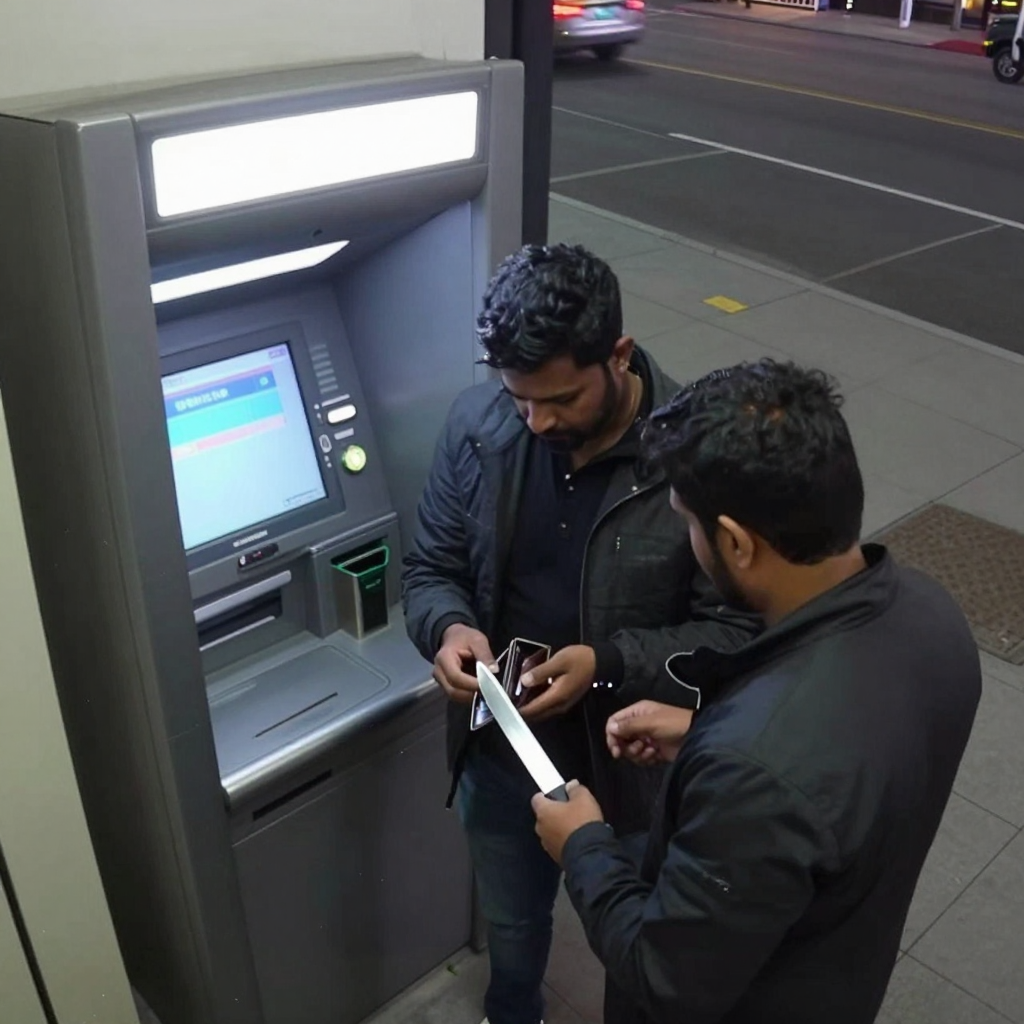Assault: (471, 656, 571, 804)
Robbery: (529, 354, 983, 1024), (399, 242, 768, 1023)
